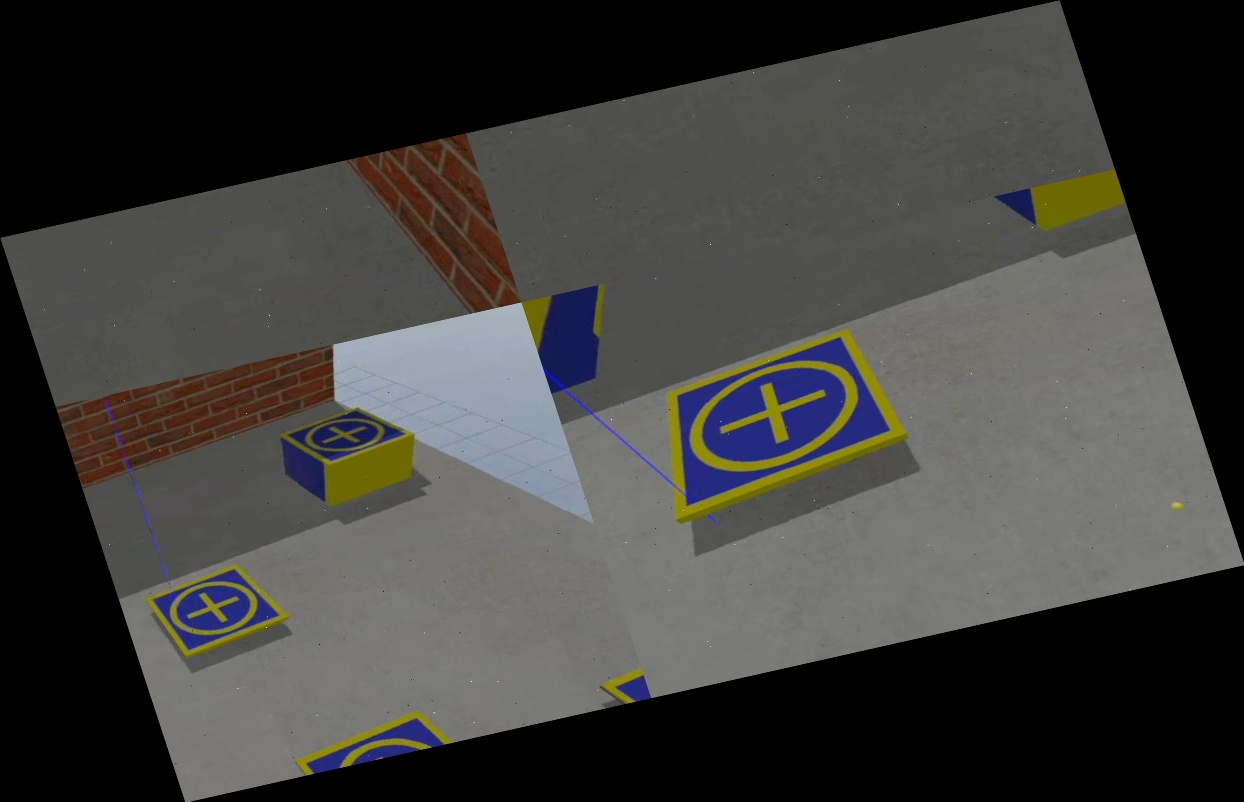large_base: (522, 278, 664, 407)
small_base: (615, 321, 925, 530), (288, 691, 492, 775), (141, 555, 297, 663), (276, 395, 421, 479)
